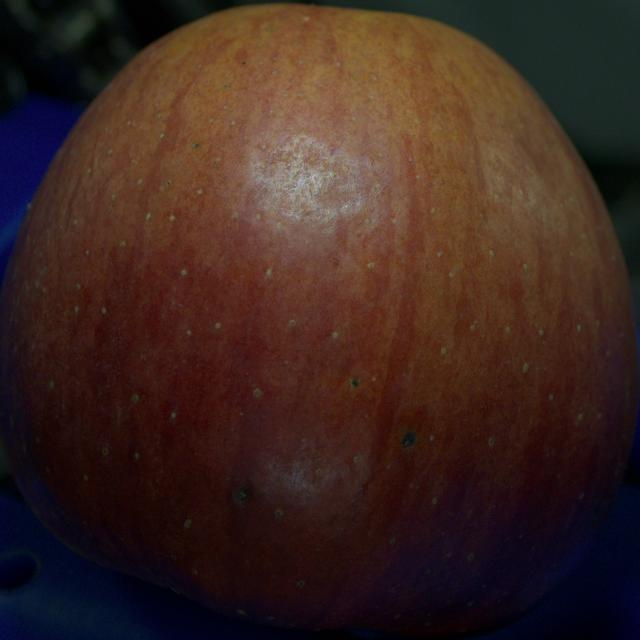apple: (0, 4, 638, 636)
pest: (402, 432, 416, 448), (236, 491, 248, 501)
